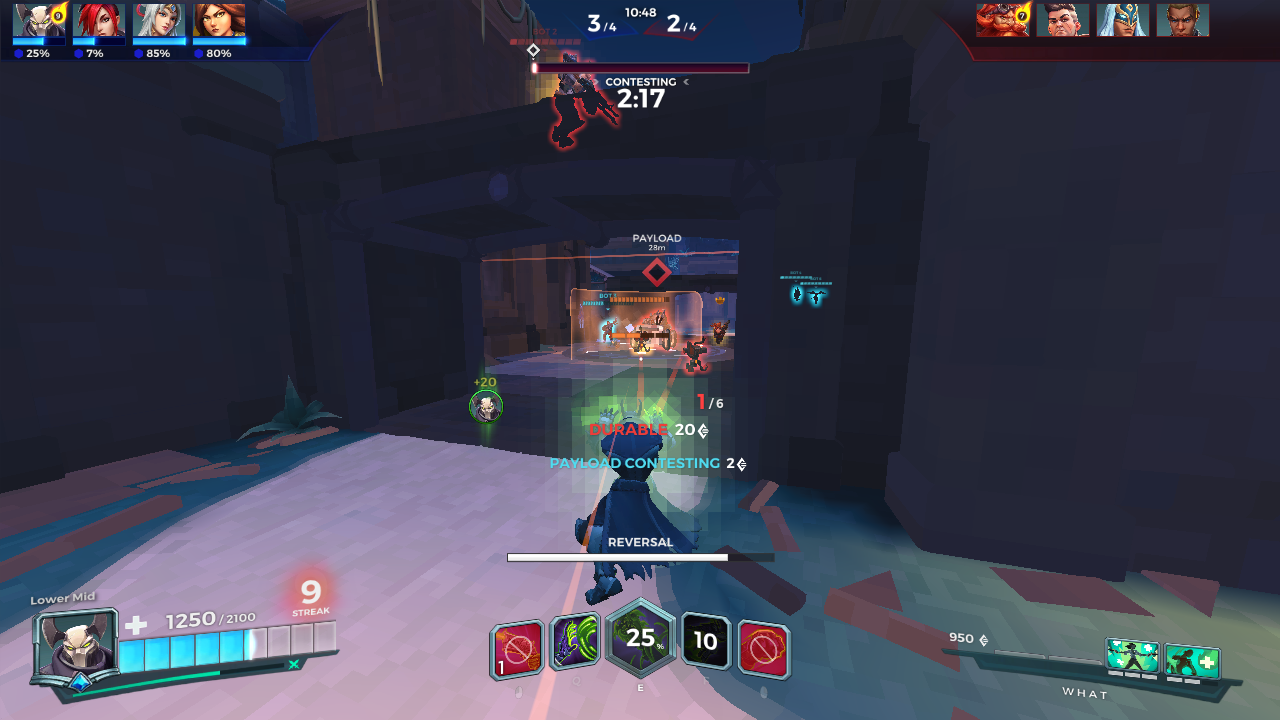model: (545, 40, 603, 155)
